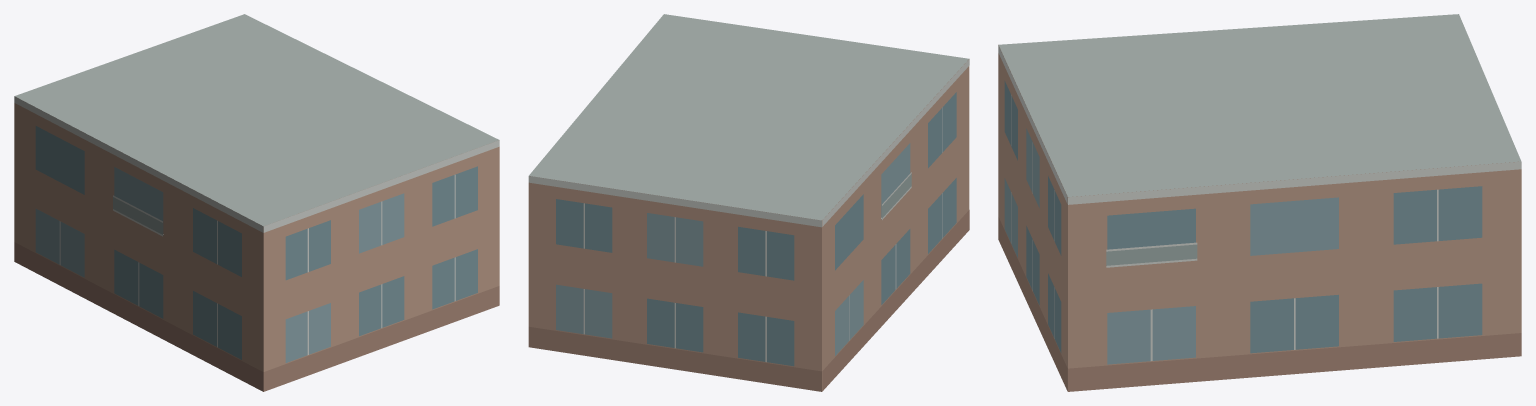
File: survey-upis-33012579.glb
3 renders of one model, left to right at view 1: azimuth 30°, elevation 25°; view 2: azimuth 150°, elevation 25°; view 3: azimuth 270°, elevation 25°, orthographic. The views are drawn at different scales.
Visible parts, largest first — view 1: survey-upis-33012579.tmp; view 2: survey-upis-33012579.tmp; view 3: survey-upis-33012579.tmp.
Part boxes in pixels (left/top/right/bottom): survey-upis-33012579.tmp: left=14, top=14, right=499, bottom=391; survey-upis-33012579.tmp: left=528, top=14, right=969, bottom=391; survey-upis-33012579.tmp: left=998, top=14, right=1521, bottom=391.
Size of the model in its own units: 12.31 by 6.1 by 14.86.
